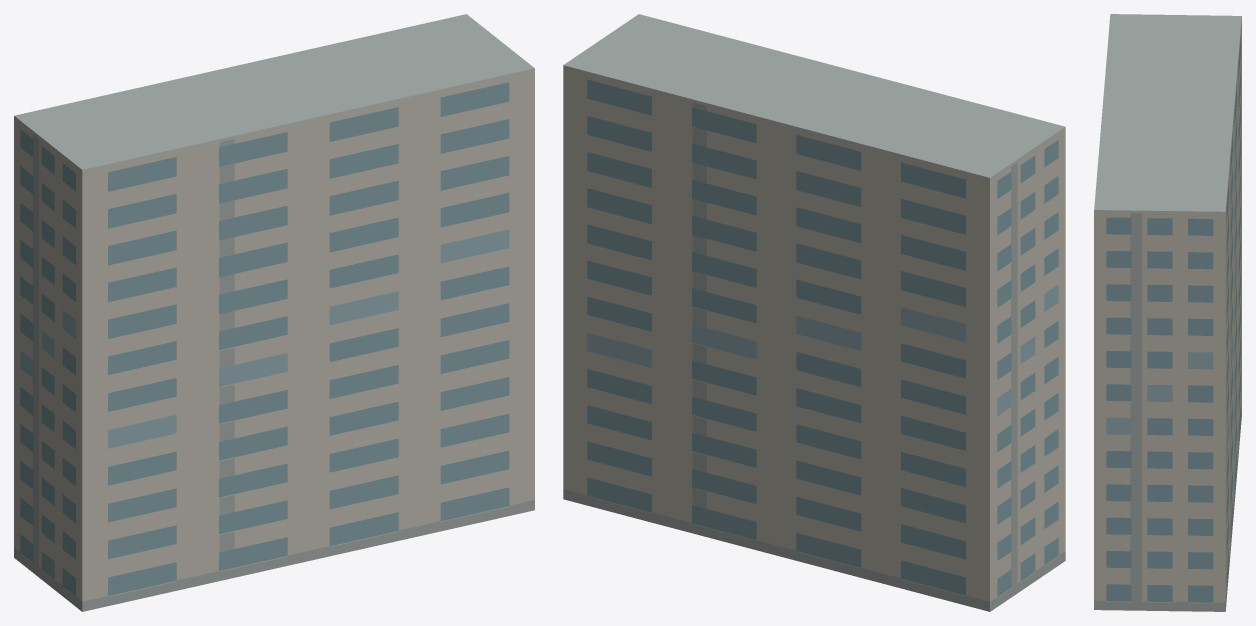
Rendered from residential-953d28b7-eb5f-4ac4-8bf6-4677346944e5.glb.
3 renders of one model, left to right at view 1: azimuth 30°, elevation 25°; view 2: azimuth 150°, elevation 25°; view 3: azimuth 270°, elevation 25°, orthographic. The views are drawn at different scales.
Parts seen in each view (by area): view 1: residential-953d28b7-eb5f-4ac4-8bf6-4677346944e5.tmp; view 2: residential-953d28b7-eb5f-4ac4-8bf6-4677346944e5.tmp; view 3: residential-953d28b7-eb5f-4ac4-8bf6-4677346944e5.tmp.
Part boxes in pixels (x1,y1,x2,y2): residential-953d28b7-eb5f-4ac4-8bf6-4677346944e5.tmp: [14, 14, 534, 611]; residential-953d28b7-eb5f-4ac4-8bf6-4677346944e5.tmp: [563, 14, 1065, 611]; residential-953d28b7-eb5f-4ac4-8bf6-4677346944e5.tmp: [1094, 14, 1241, 611].
Size of the model in its own units: 36.08 by 34 by 11.39.
